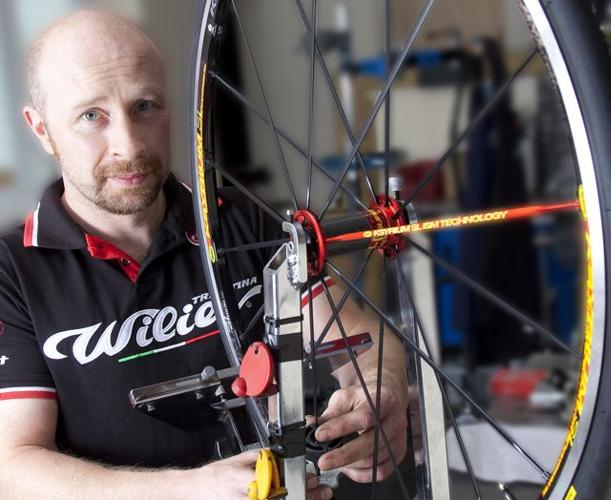person: (1, 3, 413, 498)
